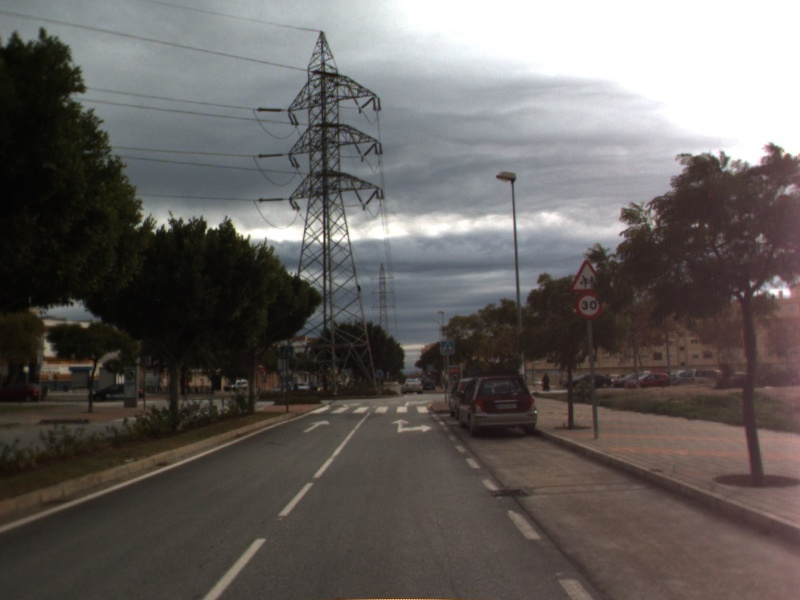STRAIGHT: (301, 418, 332, 434)
STRAIGHT_RIGHT: (389, 417, 434, 435)
